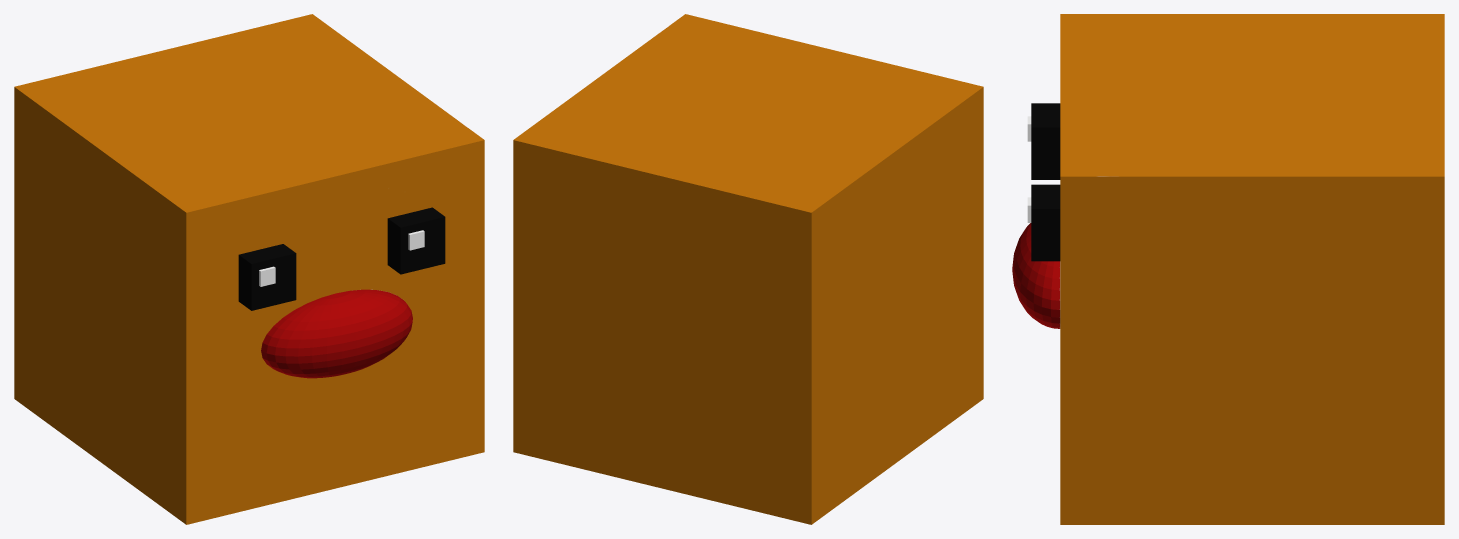
Rendered from PatiDigda.obj.
3 views of the same model, side by side, from view 1: azimuth 30°, elevation 25°; view 2: azimuth 150°, elevation 25°; view 3: azimuth 270°, elevation 25° (orthographic). The views are drawn at different scales.
Visible parts, largest first — view 1: 円錐.006; view 2: 円錐.006; view 3: 円錐.006.
Part boxes in pixels (<box>): 円錐.006: <box>14,14,484,524</box>; 円錐.006: <box>513,14,983,524</box>; 円錐.006: <box>1012,14,1444,524</box>.
Size of the model in its own units: 2 by 2 by 2.25.
1 material, 1 textured.
